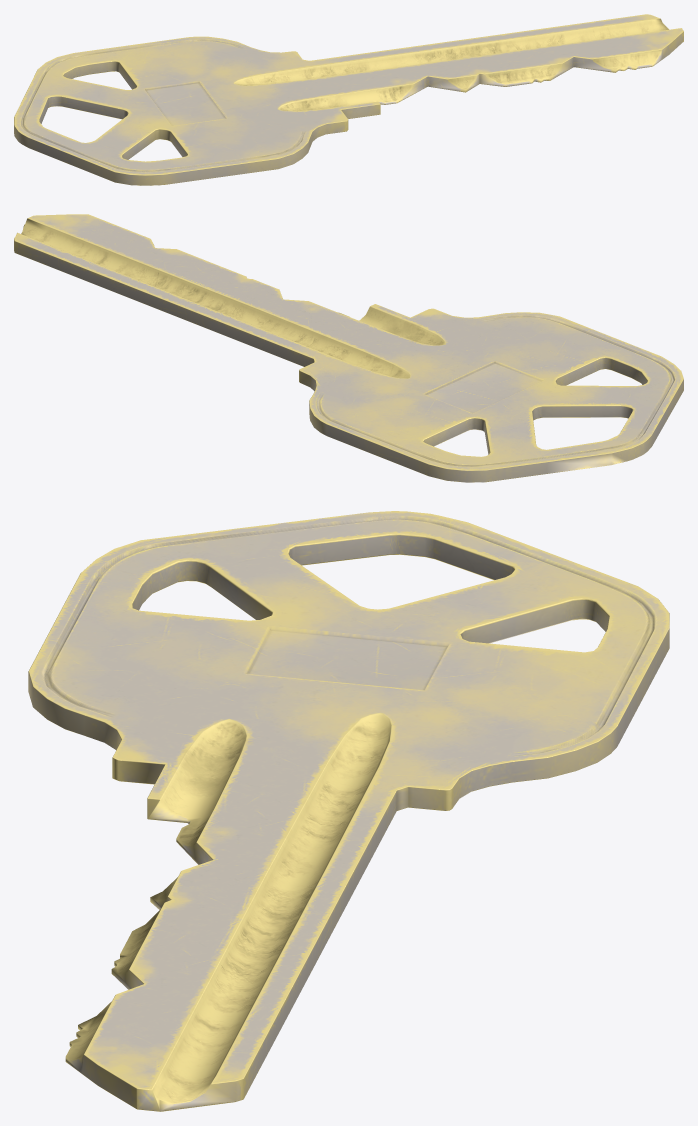
File: freekey.glb
3 views of the same model, one above another, from view 1: azimuth 30°, elevation 25°; view 2: azimuth 150°, elevation 25°; view 3: azimuth 270°, elevation 25° (orthographic). The views are drawn at different scales.
Visible parts, largest first — view 1: Key_002_Lo_Key 002_0; view 2: Key_002_Lo_Key 002_0; view 3: Key_002_Lo_Key 002_0.
Boxes of the visible parts, bbox=[...] form: Key_002_Lo_Key 002_0: bbox=[14, 14, 683, 185]; Key_002_Lo_Key 002_0: bbox=[14, 214, 683, 482]; Key_002_Lo_Key 002_0: bbox=[28, 511, 669, 1111].
Bounding box in the file's own units: 8.8 × 0.1978 × 4.06.
Materials: 1 (1 with a texture image).
